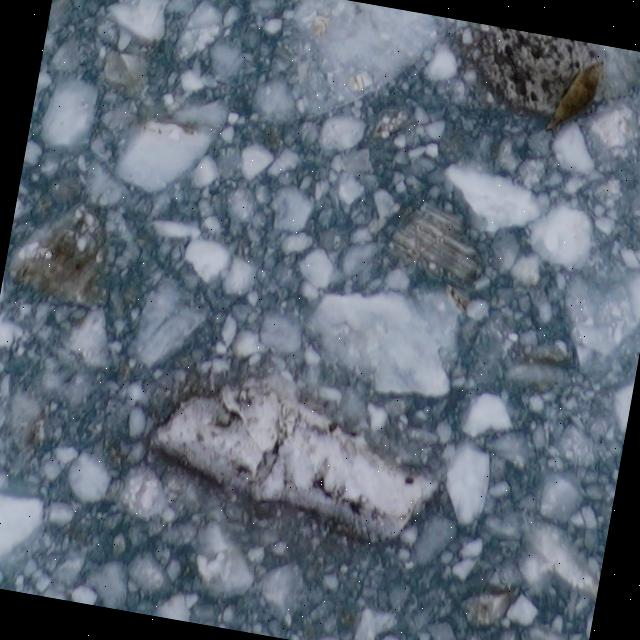seal: (535, 47, 609, 146)
